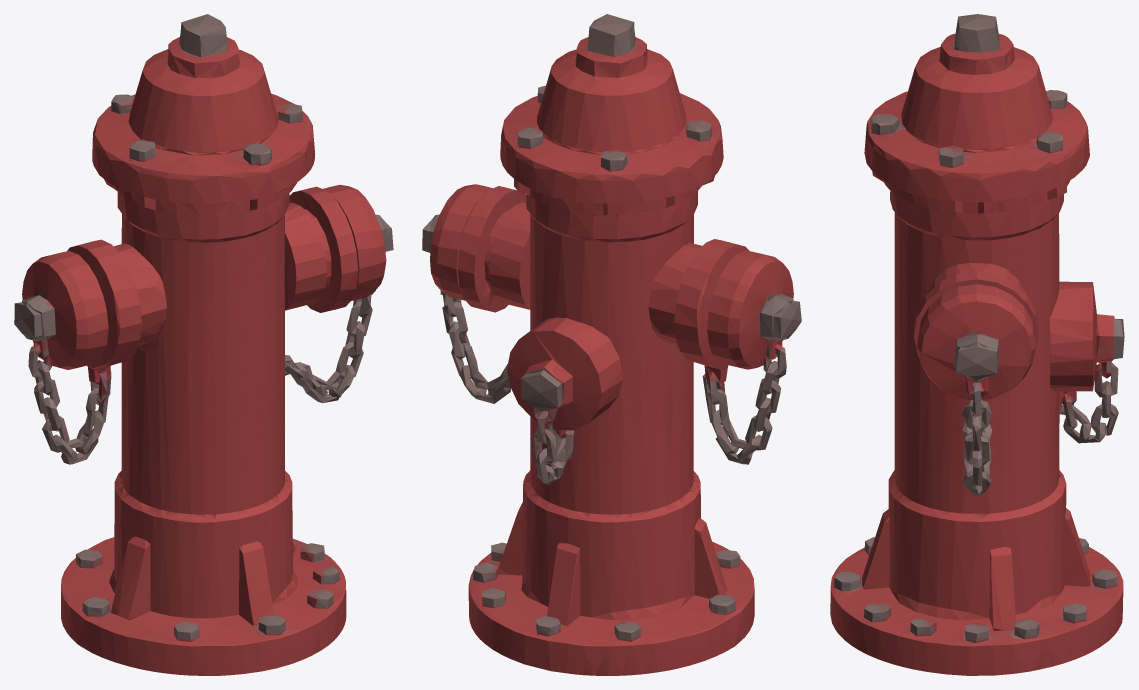
The model's file is fire_hydrant.glb.
3 renders of one model, left to right at view 1: azimuth 30°, elevation 25°; view 2: azimuth 150°, elevation 25°; view 3: azimuth 270°, elevation 25°, orthographic.
Parts seen in each view (by area): view 1: fire_hydrant; view 2: fire_hydrant; view 3: fire_hydrant.
Boxes of the visible parts, left/top/right/bottom form: fire_hydrant: left=14, top=14, right=393, bottom=675; fire_hydrant: left=422, top=14, right=801, bottom=675; fire_hydrant: left=830, top=14, right=1124, bottom=675.
Bounding box in the file's own units: 0.5755 × 0.9 × 0.4031.
1 material, 1 textured.
